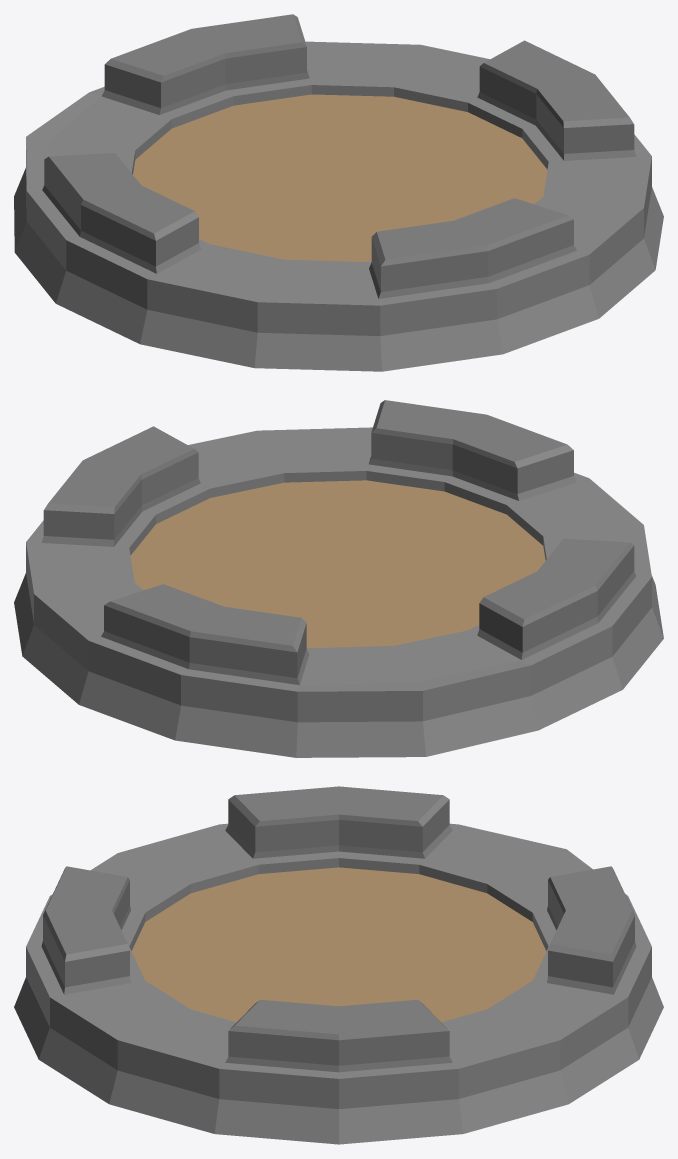
The model's file is TowerPad2.fbx.
3 renders of one model, top to bottom at view 1: azimuth 30°, elevation 25°; view 2: azimuth 150°, elevation 25°; view 3: azimuth 270°, elevation 25°, orthographic.
Visible parts, largest first — view 1: Cube; view 2: Cube; view 3: Cube.
Boxes of the visible parts, left/top/right/bottom form: Cube: left=14, top=14, right=663, bottom=371; Cube: left=14, top=400, right=663, bottom=757; Cube: left=14, top=786, right=663, bottom=1144.
Size of the model in its own units: 3.42 by 0.5625 by 3.42.
